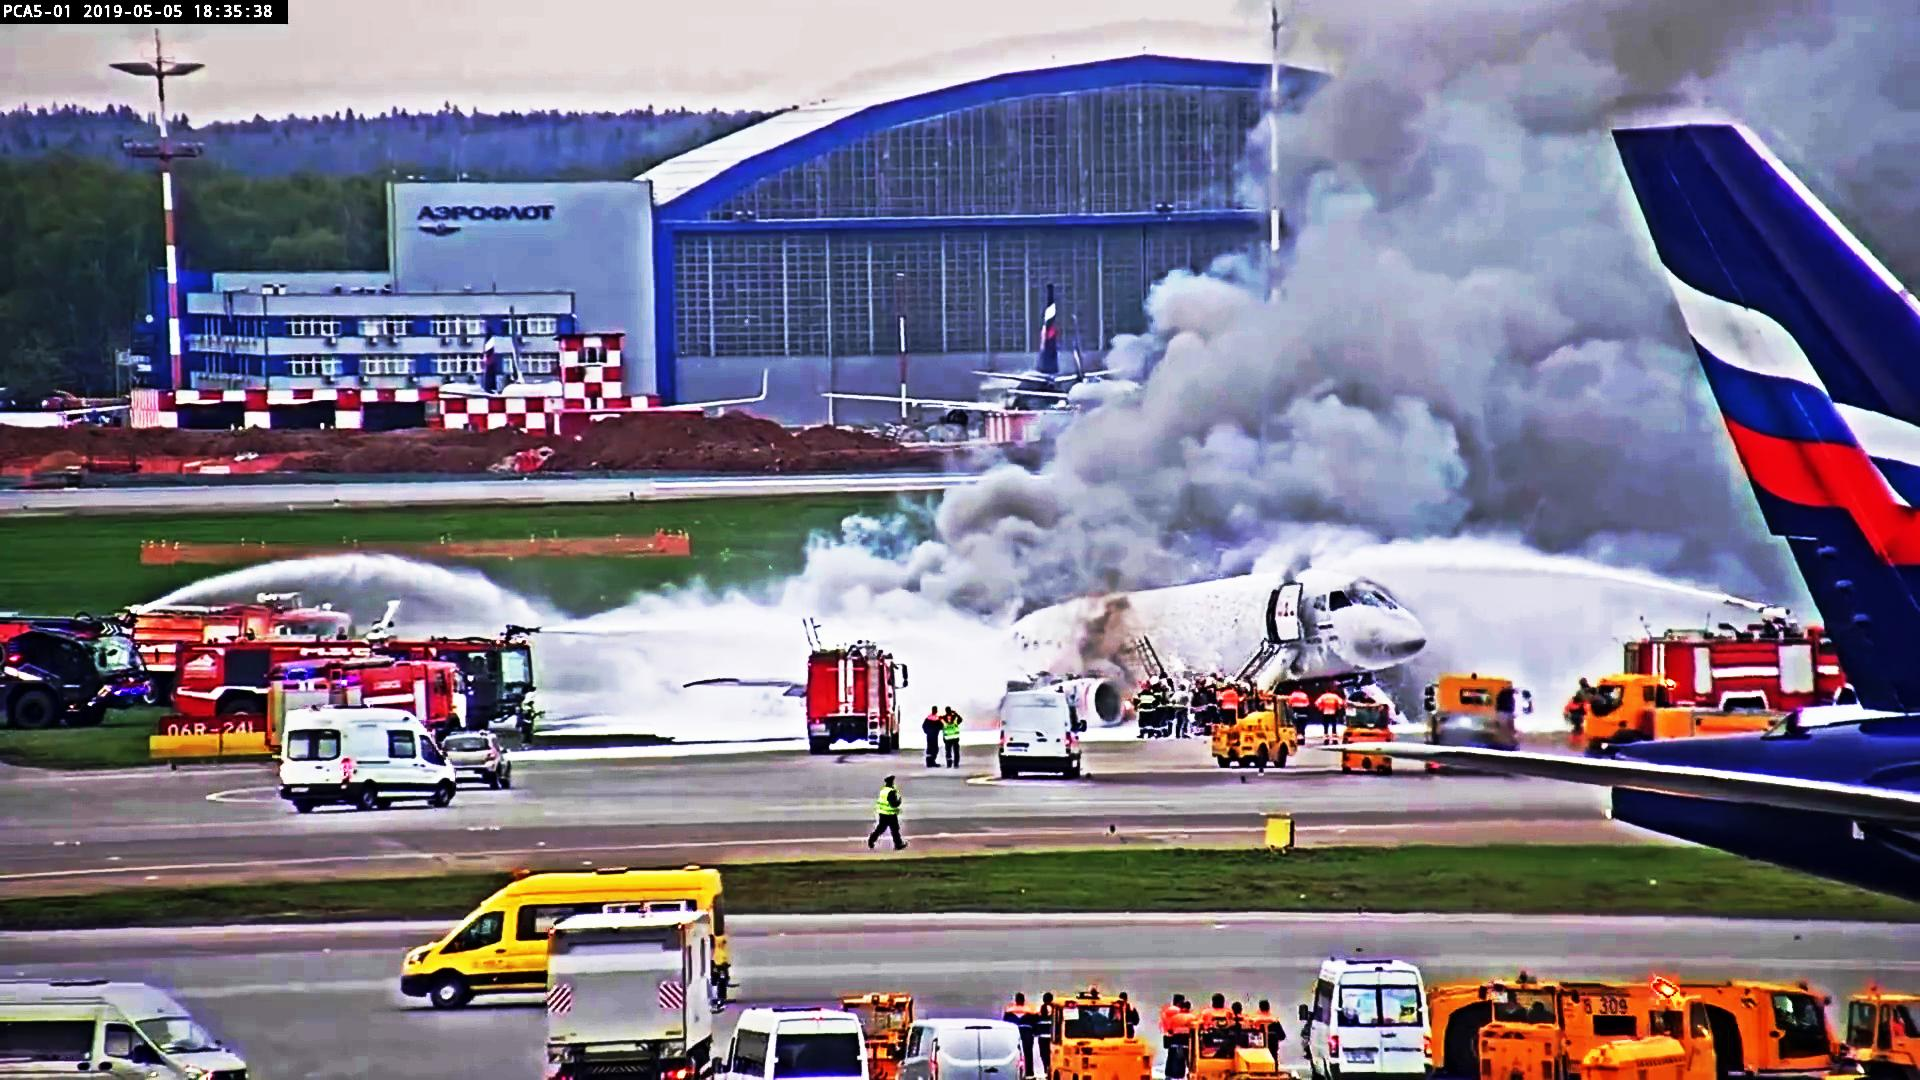smoke: (1358, 51, 1578, 468)
